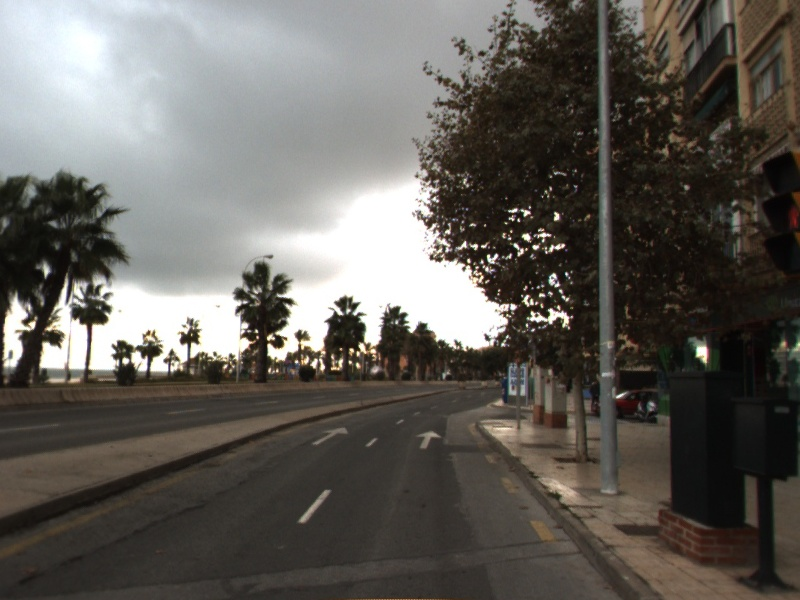STRAIGHT: (311, 426, 350, 446), (414, 428, 444, 450)
